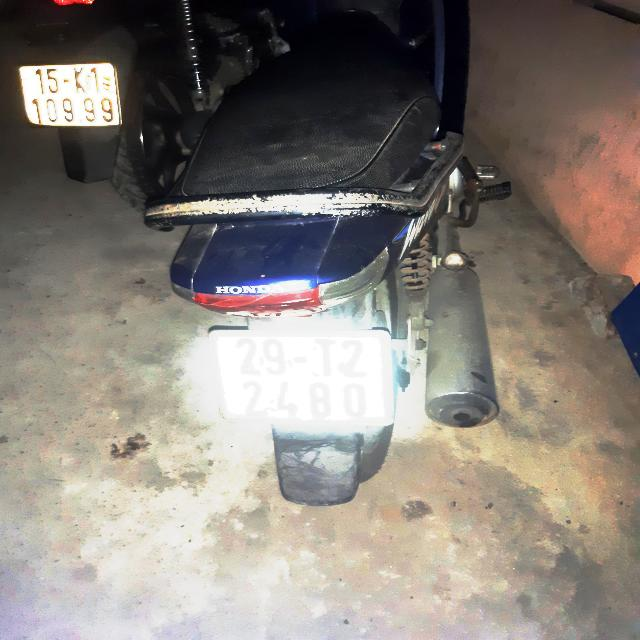license_plate: (199, 325, 405, 434), (10, 58, 136, 132)
